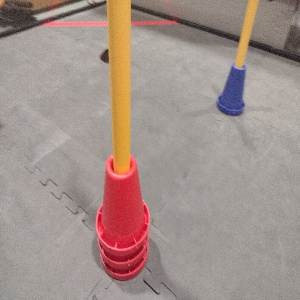Blue_1: (215, 59, 247, 116)
Red_3: (94, 152, 150, 280)
